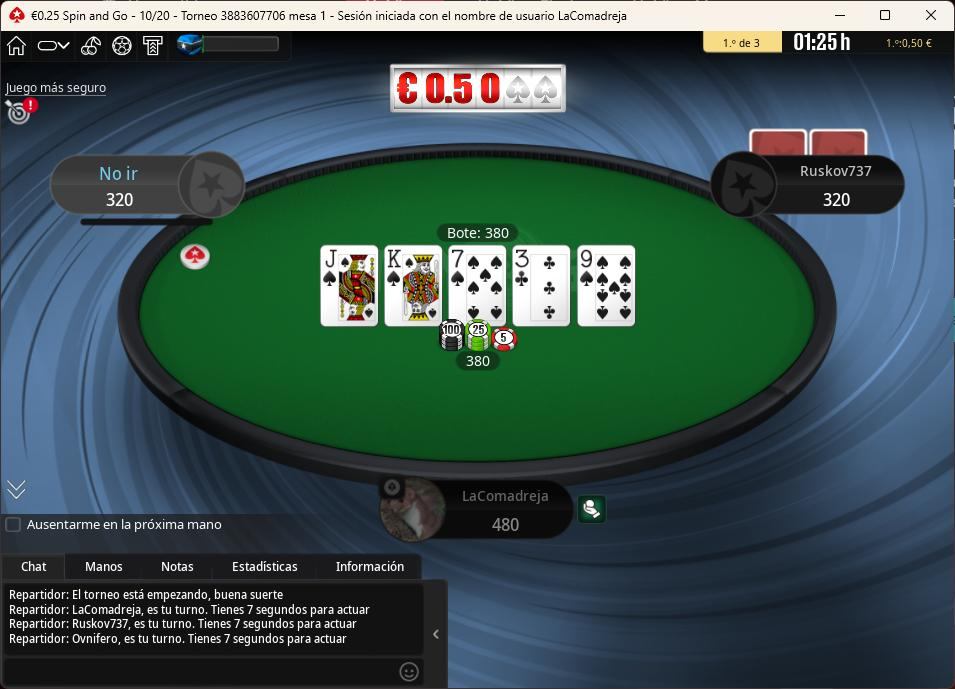Dealer: (182, 244, 215, 273)
HiddenCards: (747, 130, 870, 159)
Player: (717, 151, 913, 216), (51, 152, 247, 216)
PlayerChips: (104, 188, 139, 210), (822, 190, 855, 207)
Pot: (438, 223, 521, 242)
PrincipalPlayer: (371, 472, 569, 538)
PrincipalPlayerChips: (486, 512, 530, 535)
ShowedCards: (319, 240, 635, 334)
ShowedCards1: (319, 245, 384, 331)
ShowedCards2: (384, 246, 446, 329)
ShowedCards3: (446, 244, 509, 325)
ShowedCards4: (510, 247, 572, 330)
ShowedCards5: (572, 243, 637, 327)
SmallBigBlind: (129, 1, 182, 30)
TablePot: (433, 320, 528, 377)
